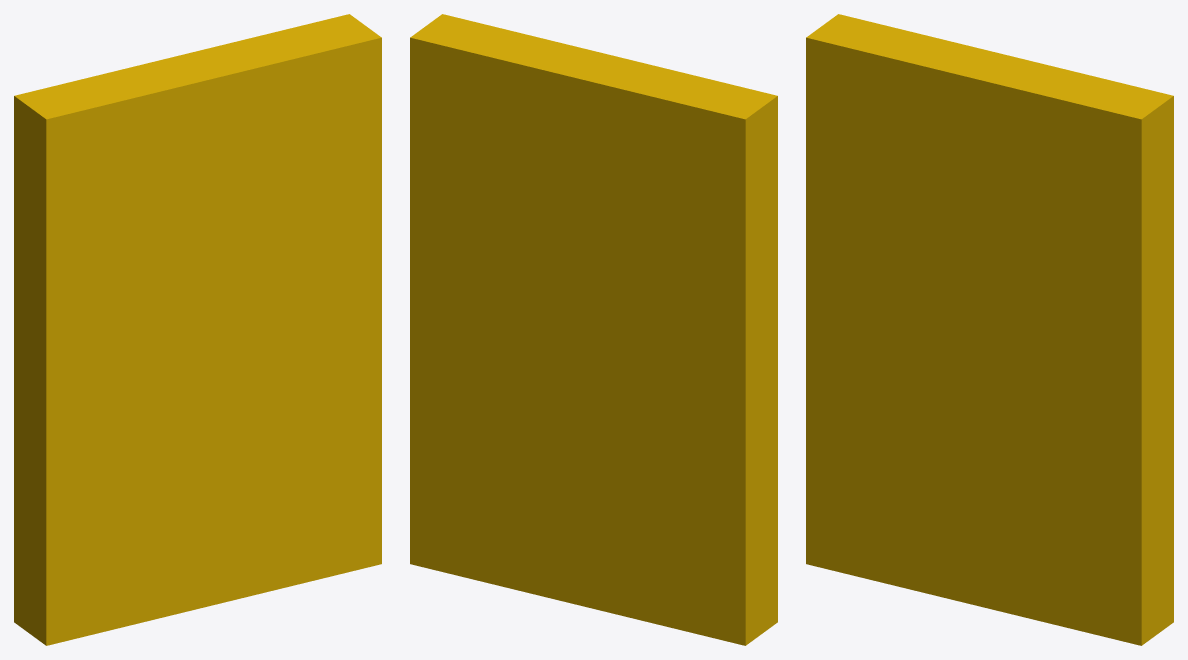
File: mdl_door_proto.glb
3 renders of one model, left to right at view 1: azimuth 30°, elevation 25°; view 2: azimuth 150°, elevation 25°; view 3: azimuth 330°, elevation 25°, orthographic.
Parts seen in each view (by area): view 1: Door; view 2: Door; view 3: Door.
Boxes of the visible parts, x1,y1,x2,y2 form: Door: (14,14,381,645); Door: (410,14,777,645); Door: (806,14,1173,645).
Bounding box in the file's own units: 1.5 × 2.25 × 0.25.
